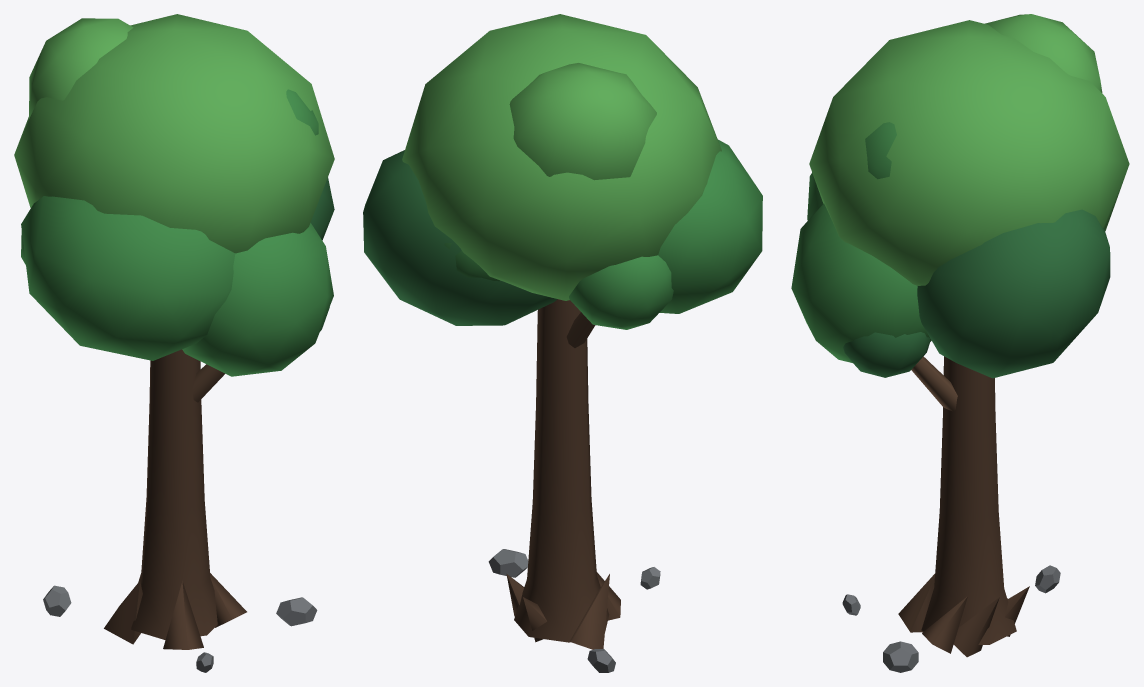
File: tree-1.glb
The picture shows the model from 3 angles, left to right: view 1: azimuth 30°, elevation 25°; view 2: azimuth 150°, elevation 25°; view 3: azimuth 270°, elevation 25°; orthographic projection.
Parts seen in each view (by area): view 1: canopy_1, canopy_2, trunk, canopy_4, canopy_5, root_flare_2, root_flare_3, root_flare_1, rock_1, canopy_3, branch_1, canopy_6 (+1 smaller); view 2: canopy_1, trunk, canopy_3, canopy_5, canopy_2, branch_tuft_2, root_flare_3, rock_1, branch_tuft_4, branch_2; view 3: canopy_1, canopy_3, trunk, canopy_4, canopy_5, branch_tuft_1, canopy_6, root_flare_5, branch_1, root_flare_1, root_flare_2, rock_1 (+1 smaller).
Boxes of the visible parts, bbox=[...] form: canopy_1: bbox=[14, 14, 334, 253]; canopy_2: bbox=[21, 196, 235, 360]; trunk: bbox=[131, 349, 217, 639]; canopy_4: bbox=[182, 223, 333, 376]; canopy_5: bbox=[29, 18, 133, 118]; root_flare_2: bbox=[163, 581, 203, 649]; root_flare_3: bbox=[104, 581, 142, 644]; root_flare_1: bbox=[210, 573, 246, 627]; rock_1: bbox=[276, 597, 317, 626]; canopy_3: bbox=[310, 177, 334, 240]; branch_1: bbox=[192, 364, 224, 402]; canopy_6: bbox=[286, 89, 318, 135]; canopy_1: bbox=[402, 14, 721, 300]; trunk: bbox=[514, 299, 609, 642]; canopy_3: bbox=[363, 150, 557, 325]; canopy_5: bbox=[509, 63, 656, 180]; canopy_2: bbox=[658, 139, 762, 313]; branch_tuft_2: bbox=[569, 255, 673, 329]; root_flare_3: bbox=[570, 574, 609, 649]; rock_1: bbox=[488, 549, 528, 577]; branch_tuft_4: bbox=[444, 243, 499, 281]; branch_2: bbox=[566, 312, 595, 347]; canopy_1: bbox=[809, 20, 1129, 285]; canopy_3: bbox=[917, 209, 1110, 378]; trunk: bbox=[921, 356, 1016, 644]; canopy_4: bbox=[791, 204, 931, 362]; canopy_5: bbox=[985, 14, 1102, 92]; branch_tuft_1: bbox=[843, 332, 930, 377]; canopy_6: bbox=[865, 122, 896, 179]; root_flare_5: bbox=[953, 597, 999, 657]; branch_1: bbox=[911, 356, 957, 411]; root_flare_1: bbox=[922, 596, 967, 653]; root_flare_2: bbox=[898, 573, 935, 632]; rock_1: bbox=[883, 641, 918, 672].
Size of the model in its own units: 2.33 by 4.1 by 2.07.
